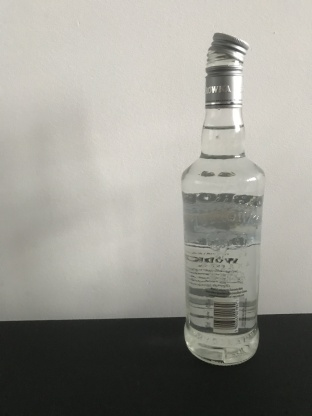nakretka: (203, 28, 250, 109)
